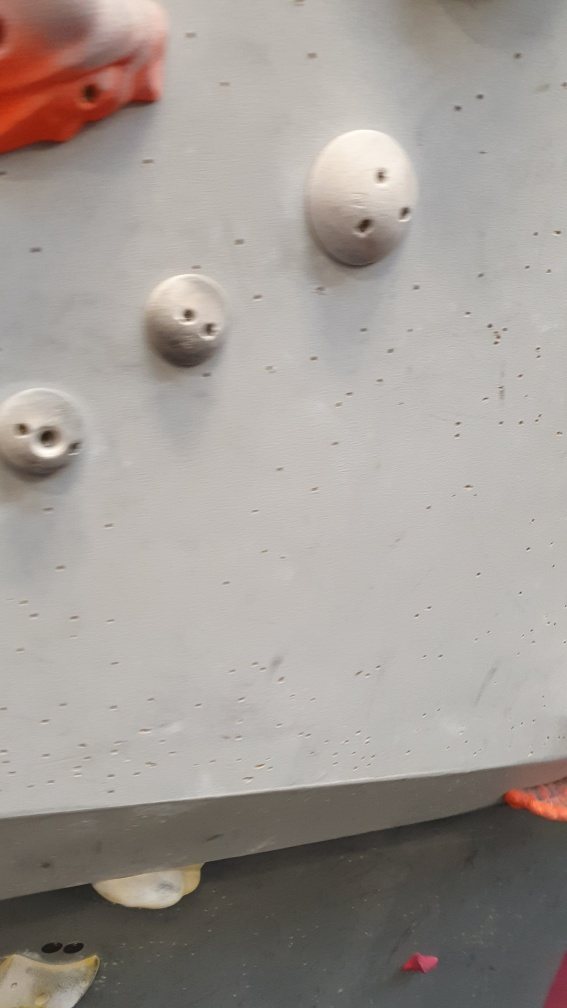Jug: (505, 768, 567, 827)
Sloper: (306, 124, 427, 277), (143, 267, 233, 373), (1, 380, 93, 480)
